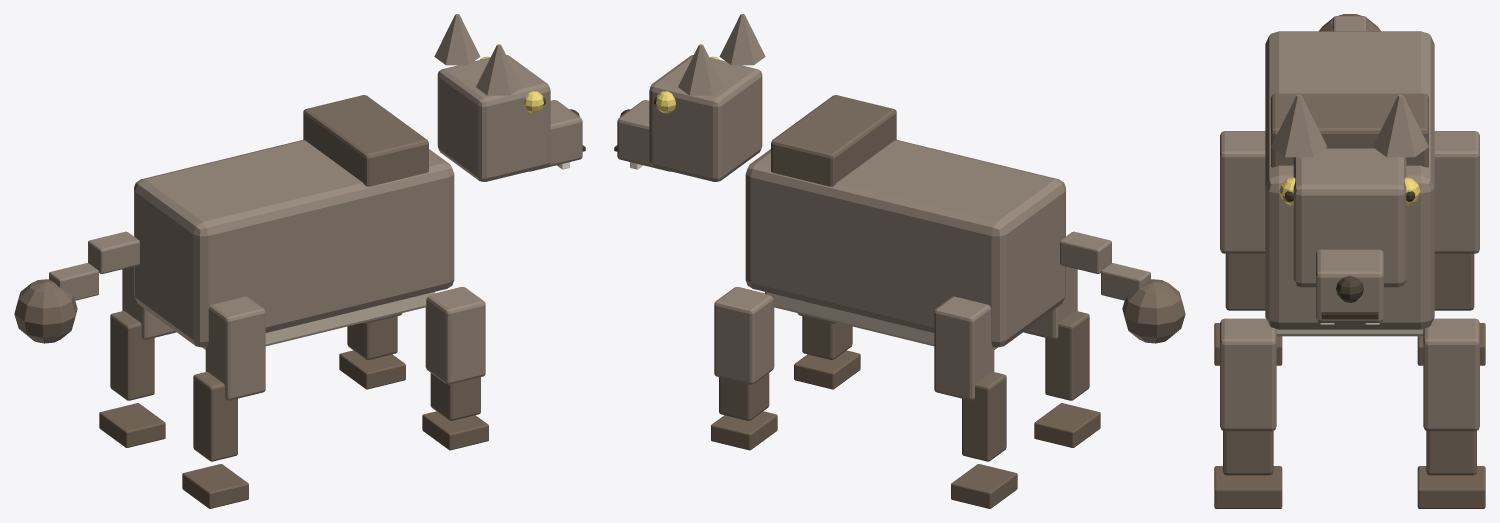
The model's file is hedgewolf_v2.glb.
3 views of the same model, side by side, from view 1: azimuth 30°, elevation 25°; view 2: azimuth 150°, elevation 25°; view 3: azimuth 270°, elevation 25° (orthographic). The views are drawn at different scales.
Parts seen in each view (by area): view 1: Body_Mesh, Head_Mesh, Body_Hump, LegFL_Upper, LegBL_Thigh, LegBL_Shin, LegBR_Shin, Tail_Tip, Body_Belly, LegBL_Paw, LegBR_Paw, Snout (+9 smaller); view 2: Body_Mesh, Head_Mesh, Body_Hump, LegFR_Upper, LegBR_Thigh, LegBR_Shin, LegBL_Shin, Tail_Tip, Body_Belly, LegBL_Paw, LegBR_Paw, Snout (+9 smaller); view 3: Body_Mesh, Head_Mesh, LegFL_Upper, LegFR_Upper, Body_Hump, LegBL_Thigh, LegBR_Thigh, Snout, LegFL_Paw, LegFR_Paw, LegBL_Shin, LegBR_Shin (+10 smaller).
Boxes of the visible parts, bbox=[...] form: Body_Mesh: bbox=[134, 140, 454, 347]; Head_Mesh: bbox=[437, 55, 550, 181]; Body_Hump: bbox=[303, 95, 428, 186]; LegFL_Upper: bbox=[425, 287, 485, 384]; LegBL_Thigh: bbox=[205, 296, 265, 400]; LegBL_Shin: bbox=[193, 371, 237, 461]; LegBR_Shin: bbox=[110, 311, 154, 400]; Tail_Tip: bbox=[14, 279, 77, 343]; Body_Belly: bbox=[202, 292, 434, 349]; LegBL_Paw: bbox=[182, 464, 248, 508]; LegBR_Paw: bbox=[99, 403, 165, 447]; Snout: bbox=[529, 100, 582, 171]; Body_Mesh: bbox=[745, 140, 1065, 347]; Head_Mesh: bbox=[649, 55, 762, 181]; Body_Hump: bbox=[771, 95, 896, 186]; LegFR_Upper: bbox=[714, 287, 774, 384]; LegBR_Thigh: bbox=[934, 296, 994, 400]; LegBR_Shin: bbox=[962, 371, 1006, 461]; LegBL_Shin: bbox=[1045, 311, 1089, 400]; Tail_Tip: bbox=[1122, 279, 1185, 343]; Body_Belly: bbox=[765, 292, 997, 349]; LegBL_Paw: bbox=[1034, 403, 1100, 447]; LegBR_Paw: bbox=[951, 464, 1017, 508]; Snout: bbox=[617, 100, 670, 171]; Body_Mesh: bbox=[1265, 31, 1434, 329]; Head_Mesh: bbox=[1293, 148, 1406, 287]; LegFL_Upper: bbox=[1220, 318, 1276, 431]; LegFR_Upper: bbox=[1423, 318, 1479, 431]; Body_Hump: bbox=[1271, 93, 1428, 167]; LegBL_Thigh: bbox=[1220, 131, 1265, 253]; LegBR_Thigh: bbox=[1434, 131, 1479, 253]; Snout: bbox=[1316, 249, 1383, 322]; LegFL_Paw: bbox=[1214, 466, 1282, 508]; LegFR_Paw: bbox=[1417, 466, 1485, 508]; LegBL_Shin: bbox=[1225, 253, 1265, 310]; LegBR_Shin: bbox=[1434, 253, 1474, 310].
Bounding box in the file's own units: 1.4 × 0.86 × 0.48.
